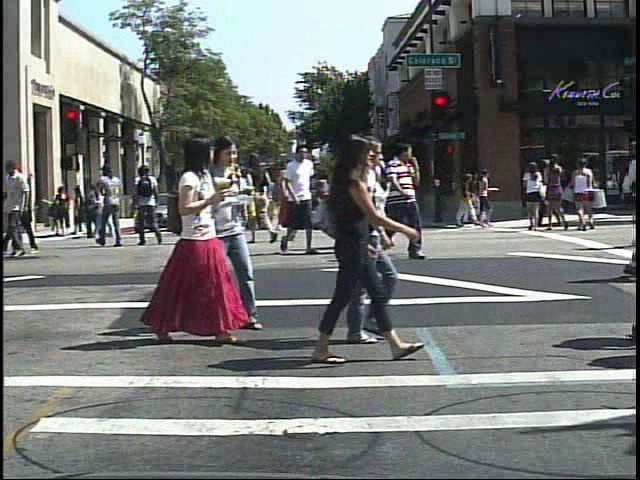person: (298, 128, 404, 366), (311, 137, 412, 347), (155, 129, 237, 346), (208, 129, 262, 332), (370, 136, 416, 260), (386, 136, 430, 262), (277, 137, 319, 260), (347, 137, 387, 250), (368, 142, 406, 250), (130, 160, 170, 251), (94, 161, 131, 250), (244, 150, 279, 243), (278, 147, 310, 248), (520, 157, 548, 235), (276, 164, 297, 233), (58, 183, 78, 233)
